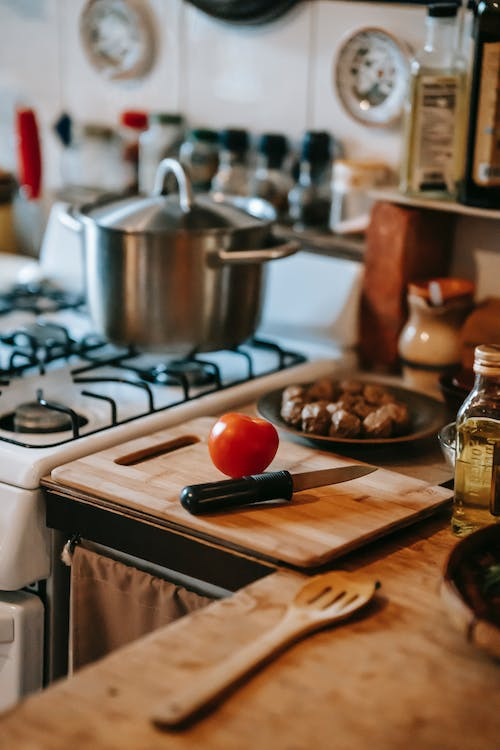knife: (174, 462, 380, 519)
